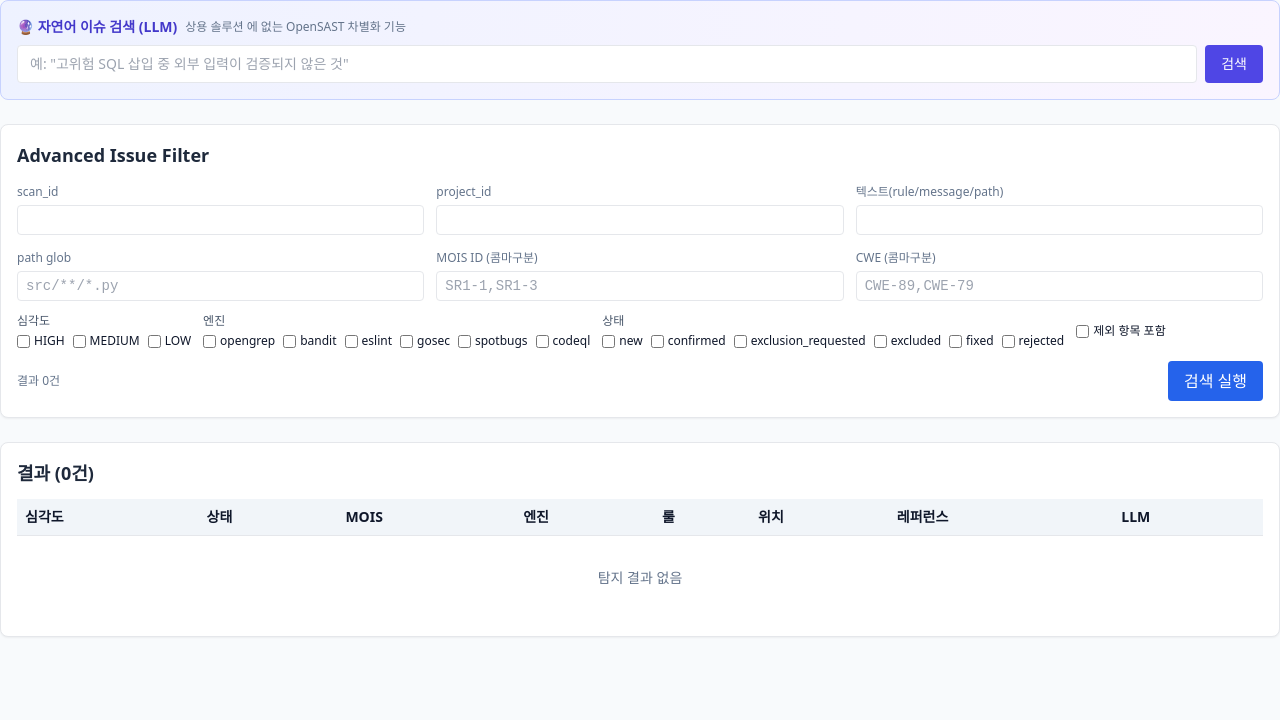
Test: IssueSearchPage › submits form and shows MSW-mocked results
Click the button "검색 실행". click: (1216, 381)
box: [1168, 361, 1263, 401]
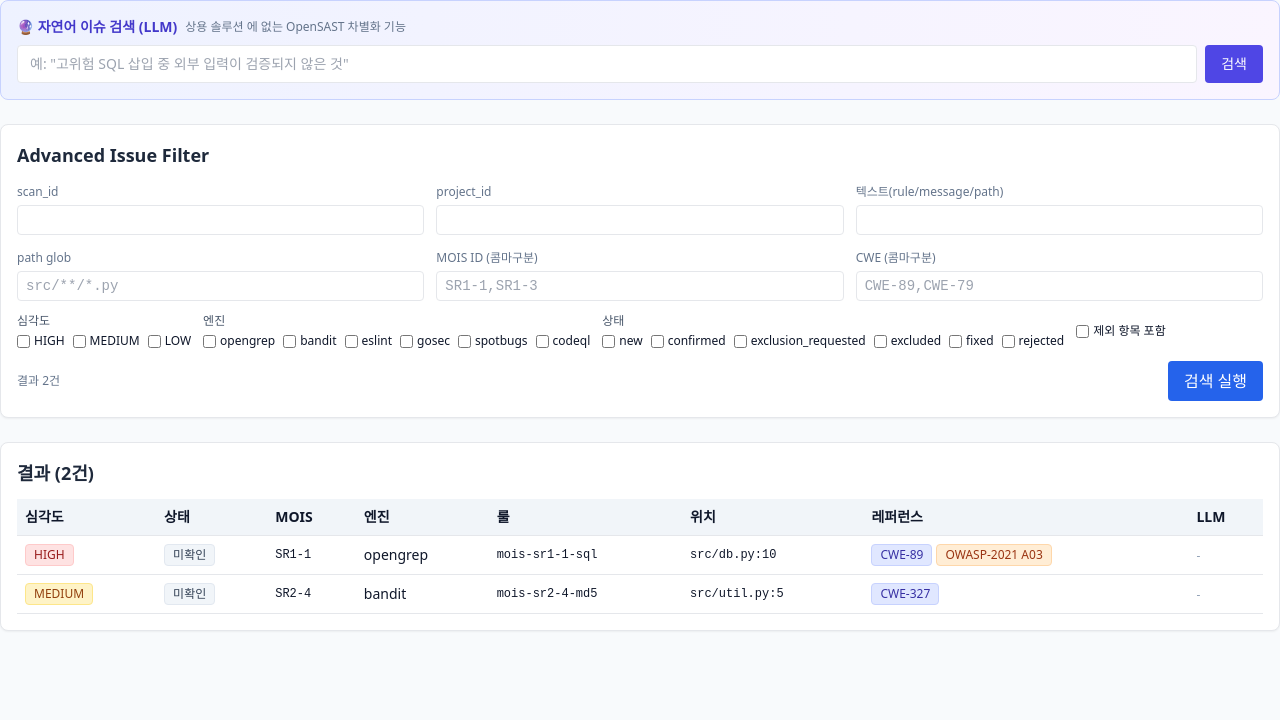
expect the text "mois-sr1-1-sql" is shown: met, box [489, 536, 682, 574]
expect the text "mois-sr2-4-md5" is shown: met, box [489, 574, 682, 614]
